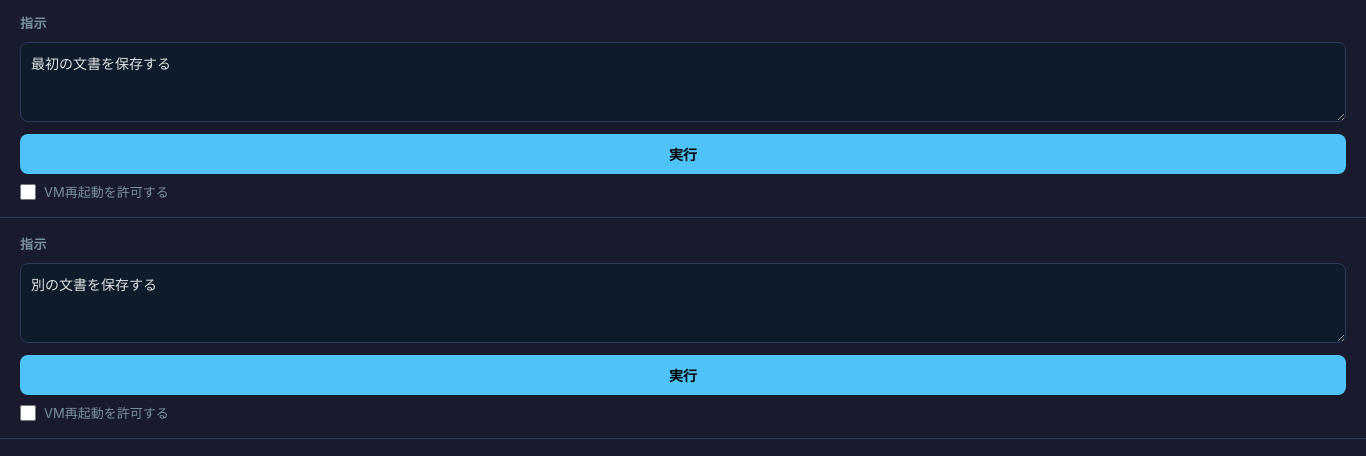
Test case: a newer mounted input can take shared submission ownership while another input is hashing
Click the 1st button "実行". click: (683, 154)
box: [20,134,1346,174]
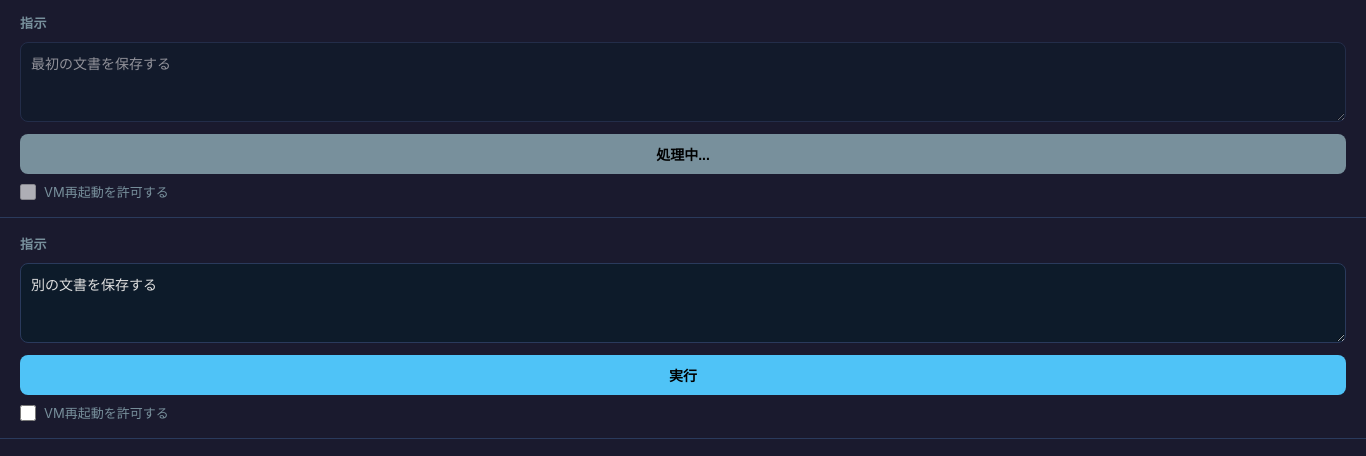
Click the button "実行". click: (683, 375)
box: [20,355,1346,395]
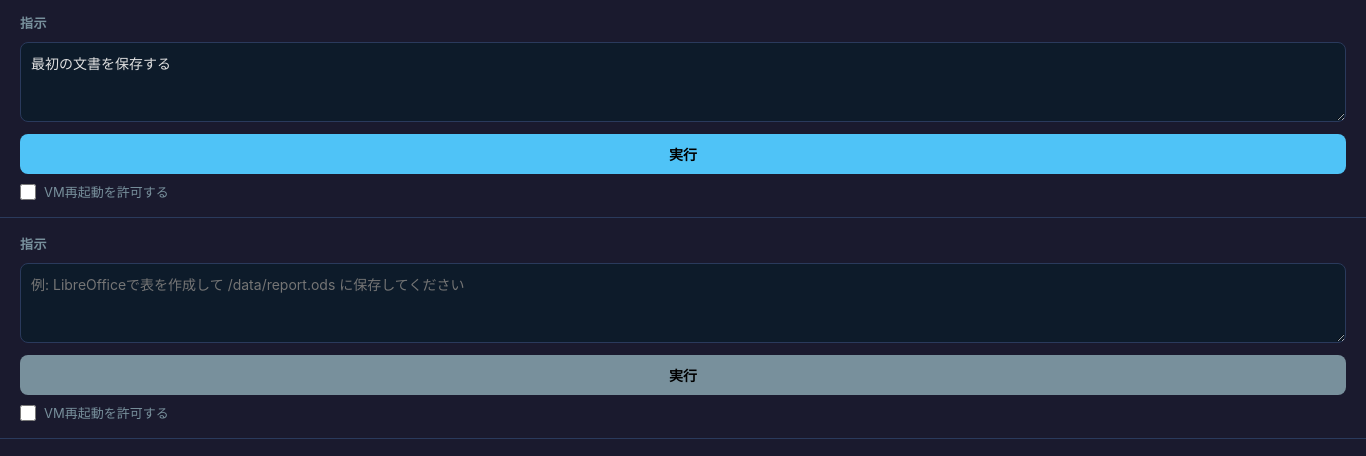
Expected: the text box named "指示" holds "最初の文書を保存する", [20,42,1346,122]
Now the text box with placeholder "例: LibreOfficeで表を作成して /data/report.ods に保存してください" is empty, box [20,263,1346,343]
Now the text box named "指示" is enabled, box [20,42,1346,122]
